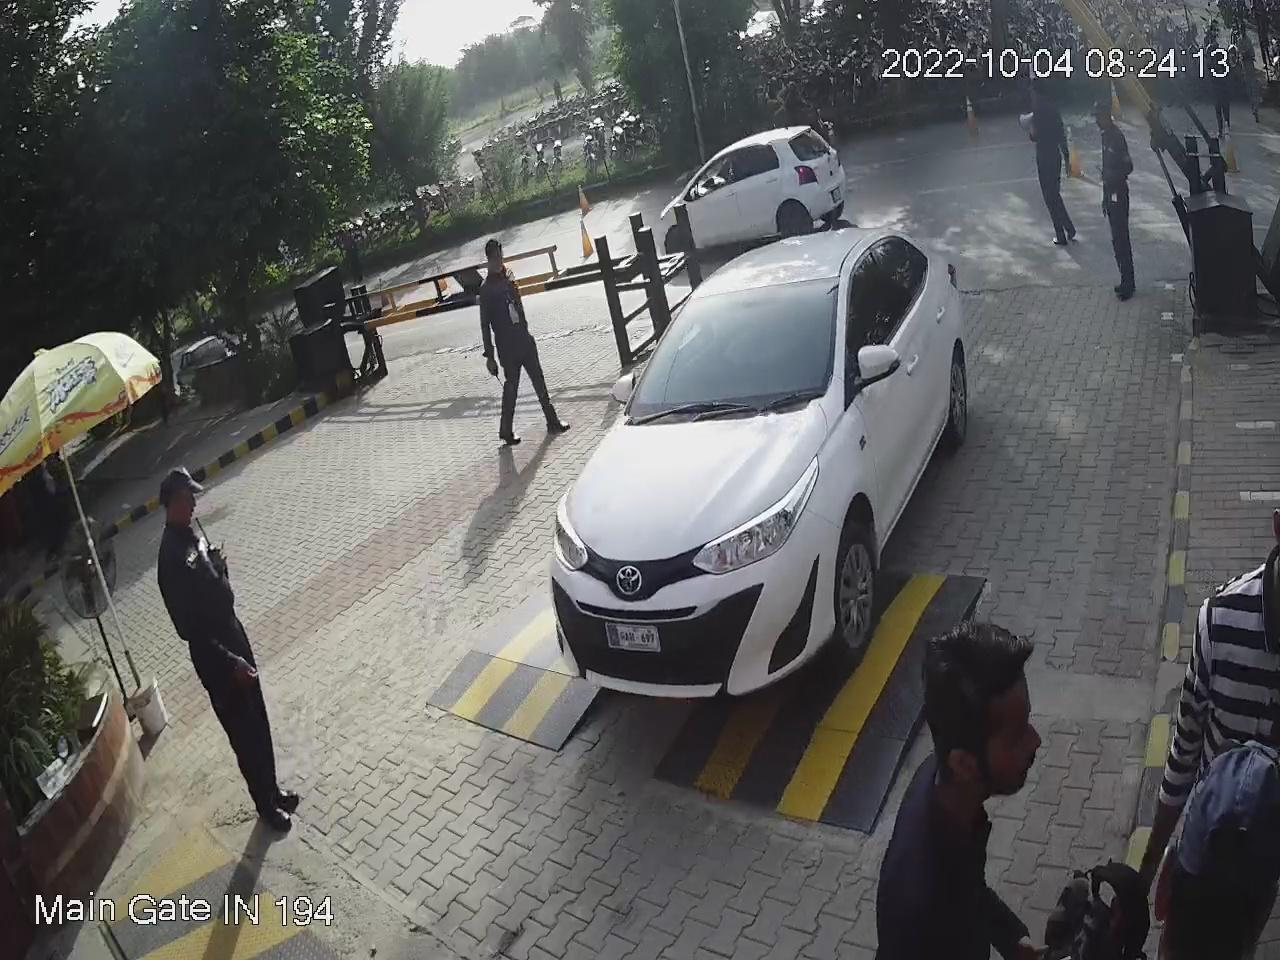windshield: (621, 267, 841, 428)
